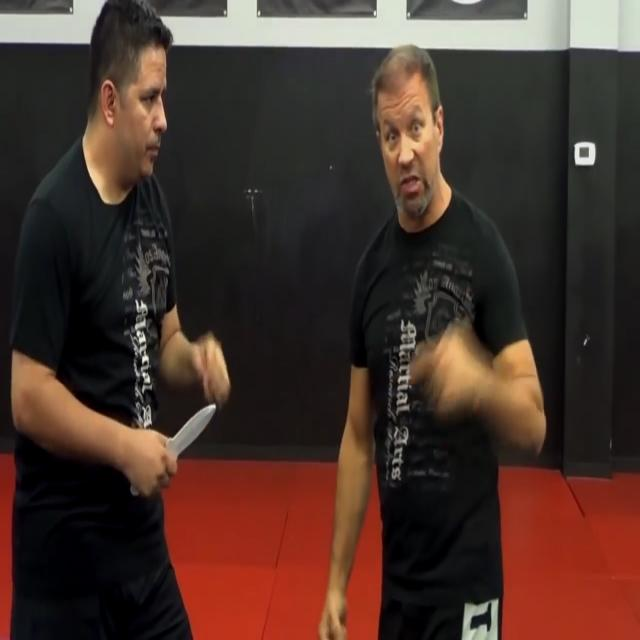knife: (169, 398, 219, 470)
